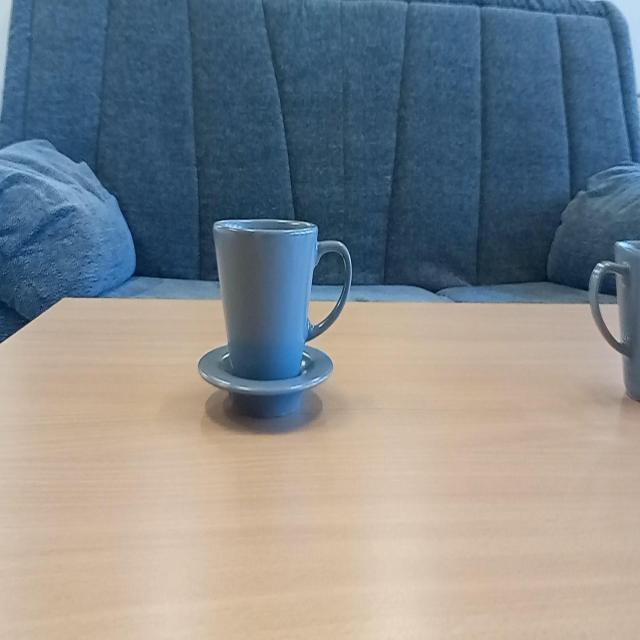cup: (194, 211, 356, 429)
